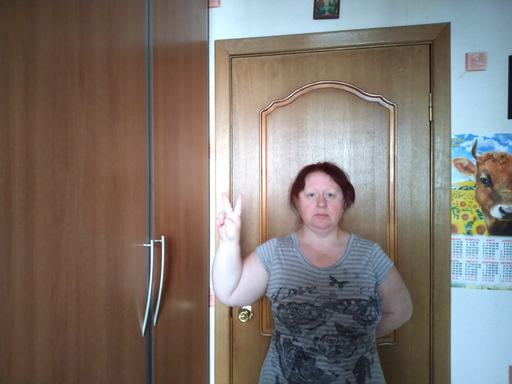peace: (213, 190, 246, 245)
